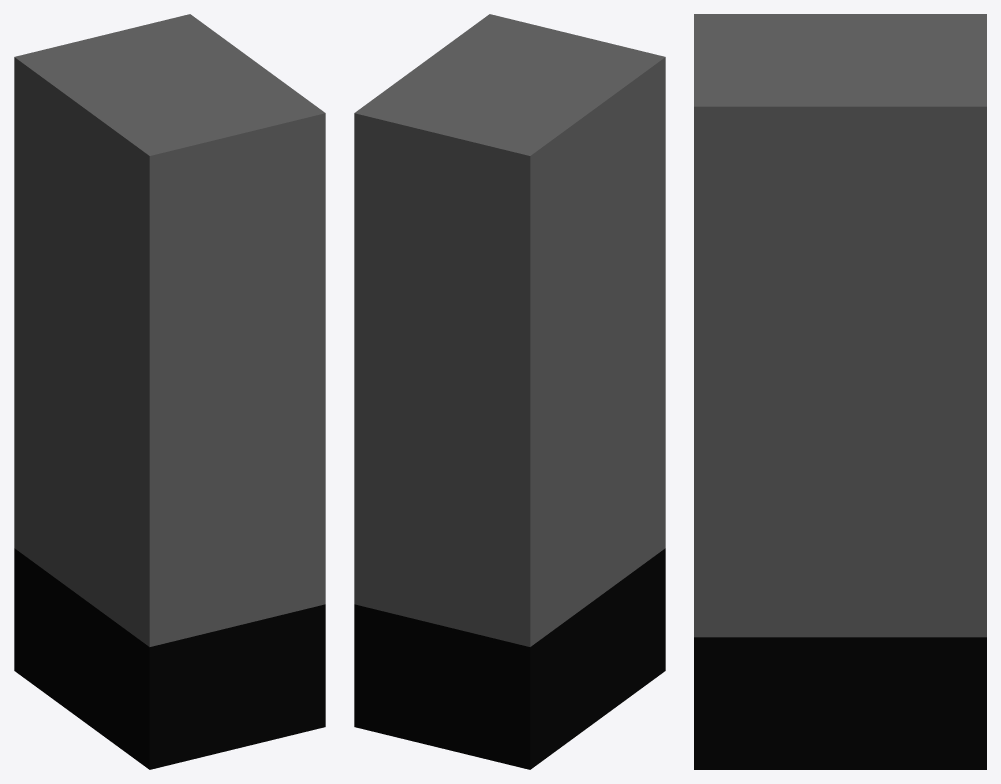
File: MouseFull-5.obj
3 renders of one model, left to right at view 1: azimuth 30°, elevation 25°; view 2: azimuth 150°, elevation 25°; view 3: azimuth 270°, elevation 25°, orthographic. The views are drawn at different scales.
Bounding box in the file's own units: 0.3 × 1 × 0.4.
1 material, 1 textured.
